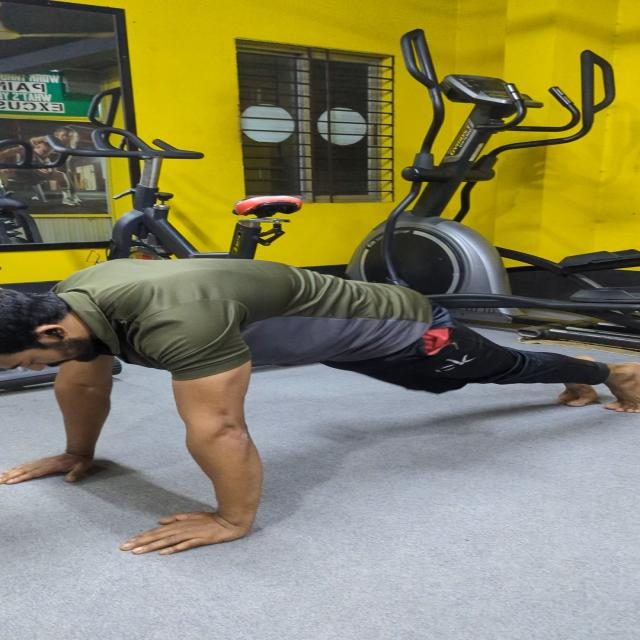Normal_MountainClimbers: (0, 176, 640, 582)
